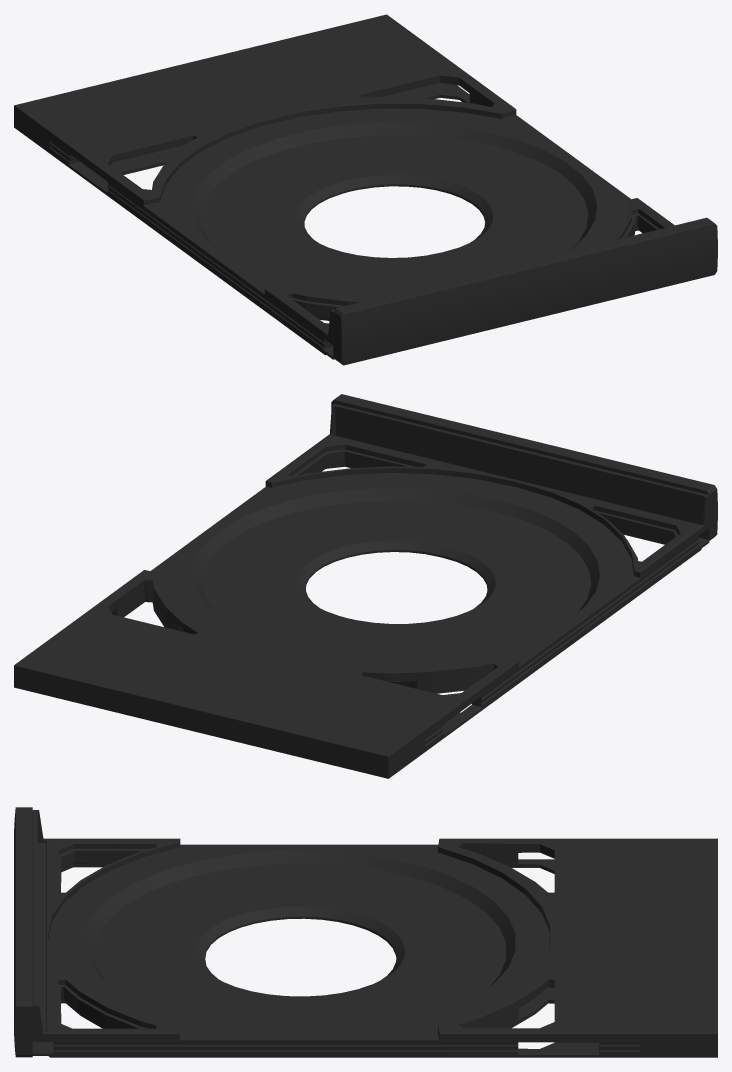
3 renders of one model, top to bottom at view 1: azimuth 30°, elevation 25°; view 2: azimuth 150°, elevation 25°; view 3: azimuth 270°, elevation 25°, orthographic. The views are drawn at different scales.
Visible parts, largest first — view 1: CD_holder, CD_holder_Panel_Slice.003_Slice.007; view 2: CD_holder, CD_holder_Panel_Slice.003_Slice.007; view 3: CD_holder, CD_holder_Panel_Slice.003_Slice.007.
Boxes of the visible parts, left/top/right/bottom form: CD_holder: left=14, top=14, right=674, bottom=359; CD_holder_Panel_Slice.003_Slice.007: left=333, top=217, right=717, bottom=365; CD_holder: left=14, top=404, right=709, bottom=778; CD_holder_Panel_Slice.003_Slice.007: left=331, top=394, right=717, bottom=540; CD_holder: left=32, top=810, right=717, bottom=1057; CD_holder_Panel_Slice.003_Slice.007: left=14, top=807, right=32, bottom=1057.
Size of the model in its own units: 182 by 24.56 by 275.
2 materials, 2 textured.
